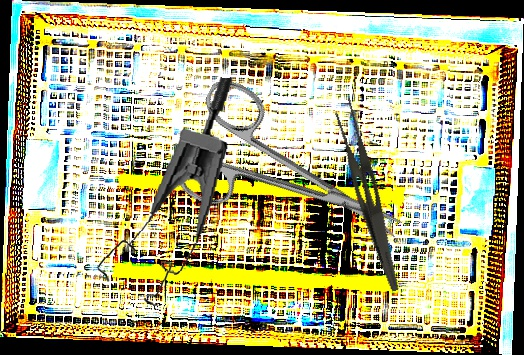Dressing Forceps: (323, 96, 420, 293)
Iris Scissors: (162, 73, 425, 288)
Speculum: (93, 66, 235, 312)
